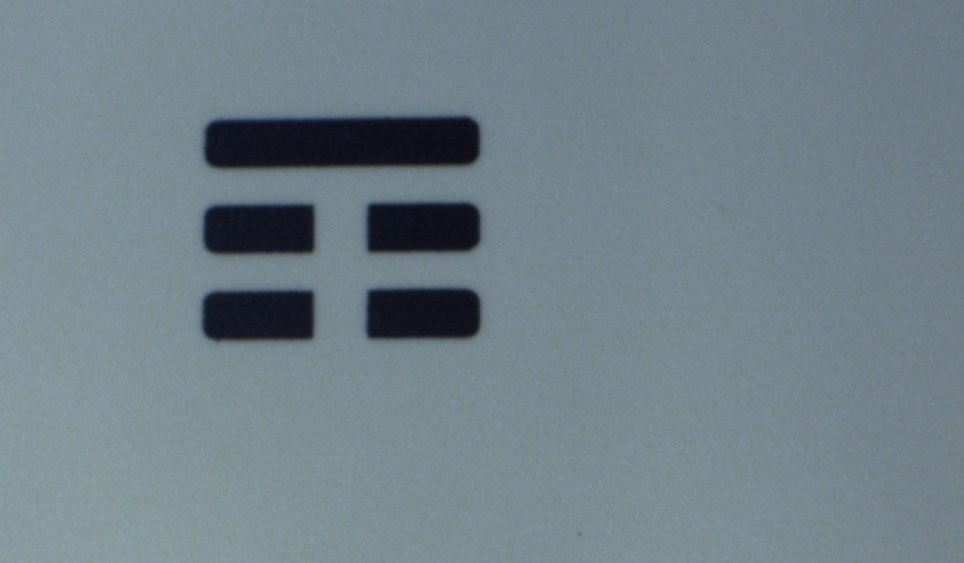BV_F6600PTIM: (184, 103, 493, 349)
